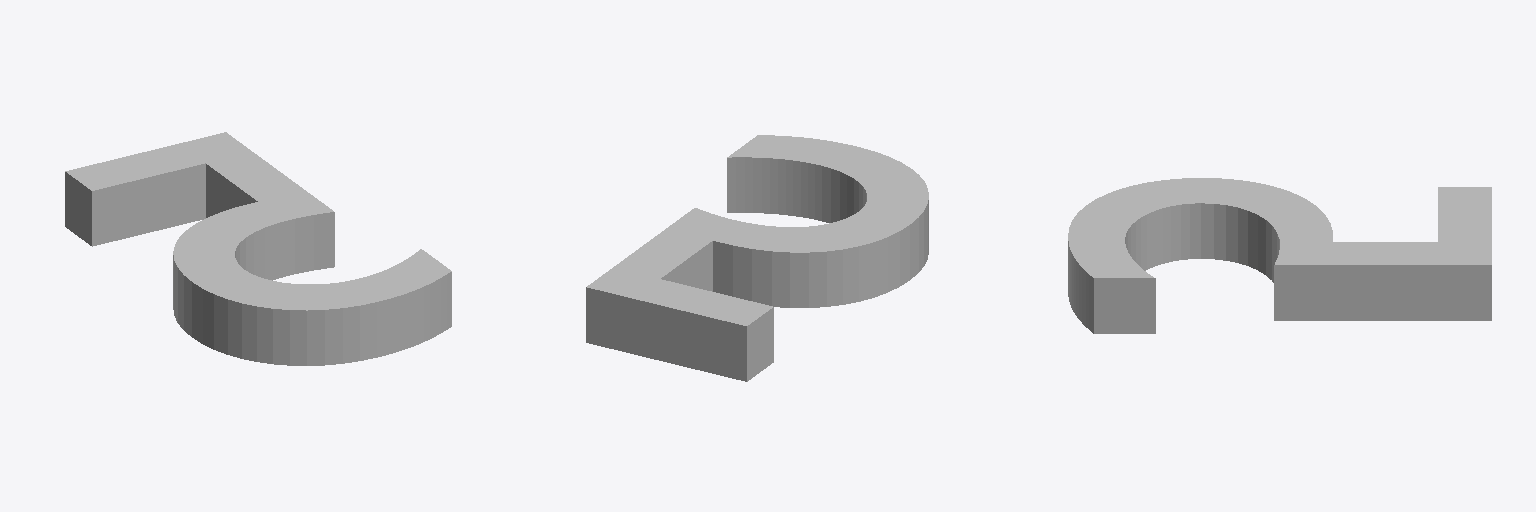
The model's file is score_5.obj.
3 views of the same model, side by side, from view 1: azimuth 30°, elevation 25°; view 2: azimuth 150°, elevation 25°; view 3: azimuth 270°, elevation 25° (orthographic).
Visible parts, largest first — view 1: 0_Text.002; view 2: 0_Text.002; view 3: 0_Text.002.
Part boxes in pixels (left/top/right/bottom): 0_Text.002: left=65, top=132, right=451, bottom=365; 0_Text.002: left=586, top=135, right=928, bottom=381; 0_Text.002: left=1068, top=178, right=1491, bottom=333.
Bounding box in the file's own units: 0.388 × 0.1 × 0.691.